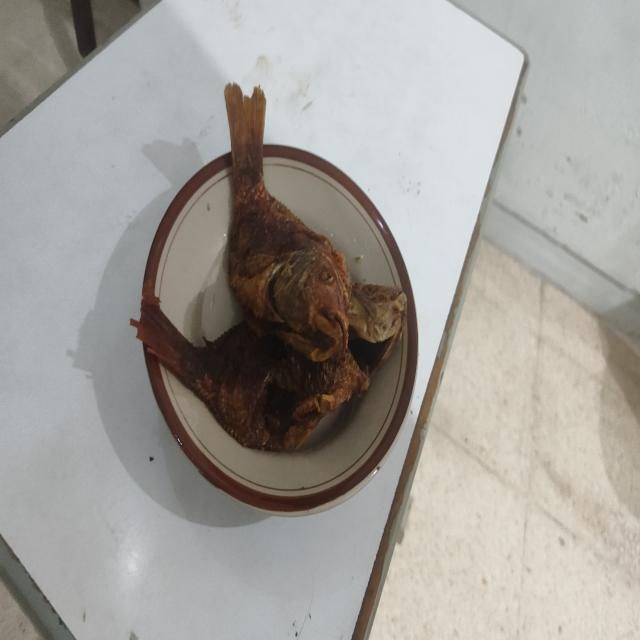ikan_mujair: (130, 284, 407, 452), (225, 84, 351, 362)
